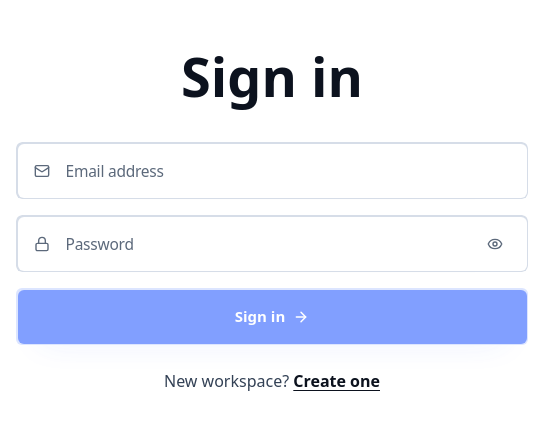
Test: Login auth entry › shows the current network-friendly auth error copy
Type "owner@acme.com" into the field with placeholder "Email address".
click(272, 171); type("owner@acme.com")  # box [18,144,526,198]
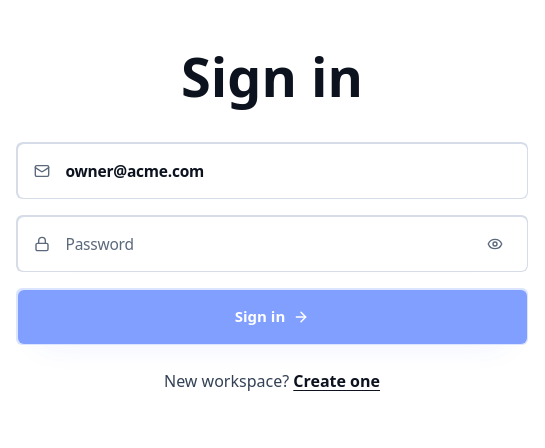
Type "Smoke2026" into the password field with placeholder "Password".
click(272, 244); type("Smoke2026")  # box [18,217,526,271]
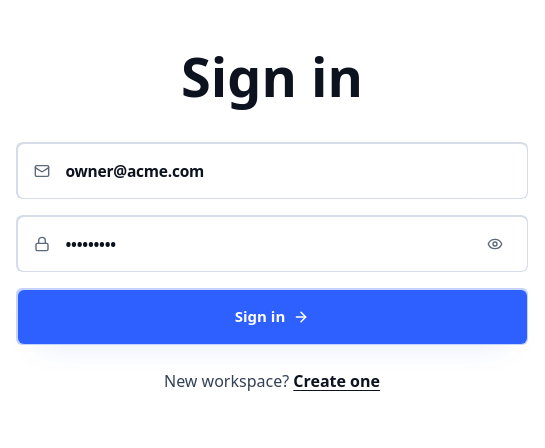
Click the button "Sign in".
click(272, 317)  # box [16,288,528,345]
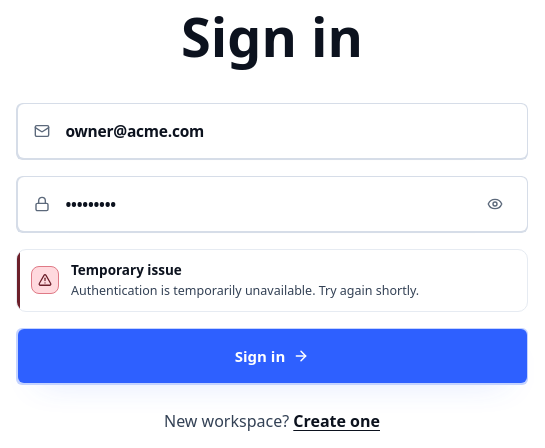
Expected: the text "Authentication is temporarily unavailable" is shown, [71,282,419,299]
Expected: the text "Temporary issue" is shown, [71,261,182,279]
